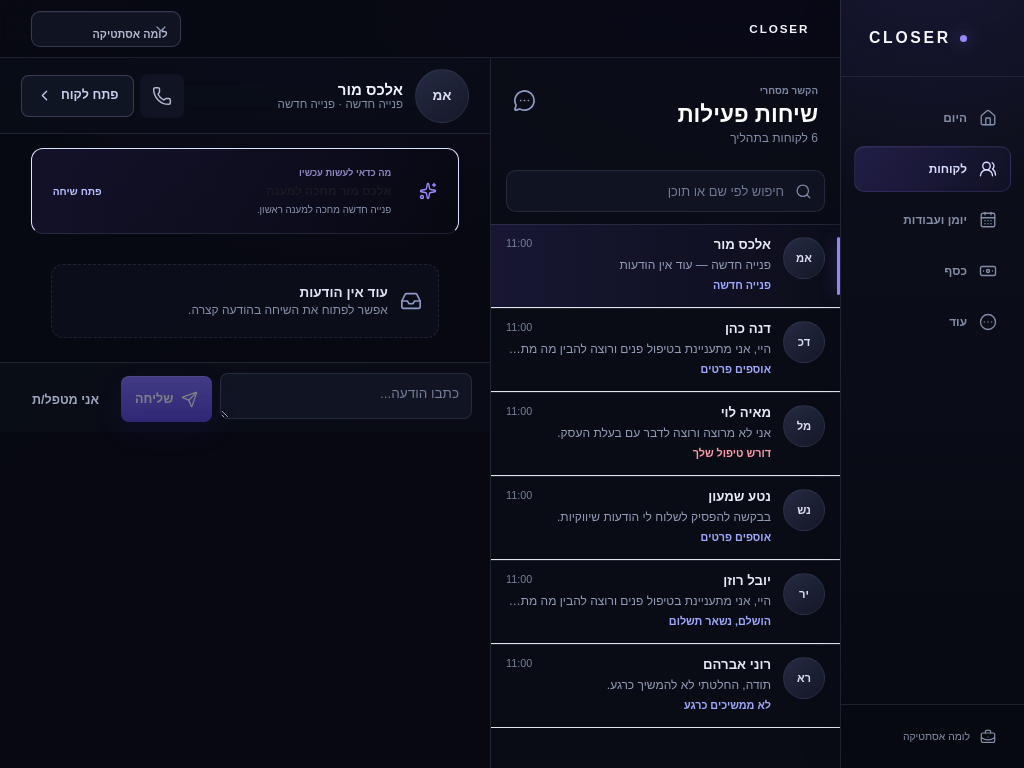
production product experience › selects an inbox conversation and exposes a readable thread
Click the button "מאיה לוי" at (666, 434), box [491,392,840,476]
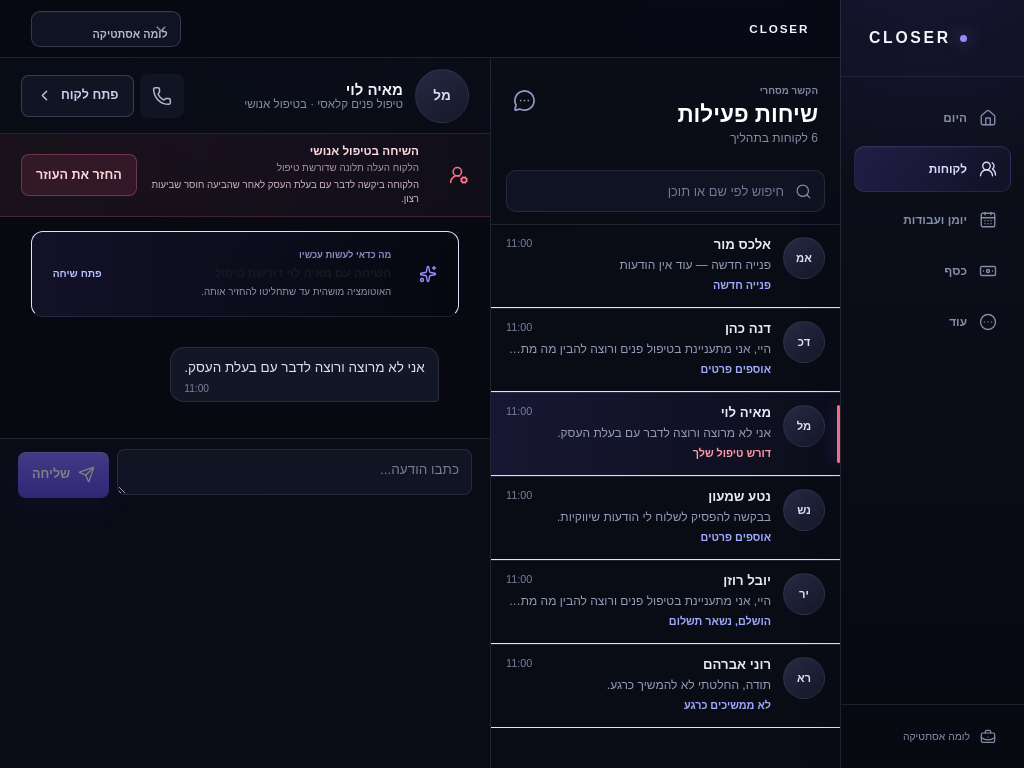
Now the heading "מאיה לוי" is shown, box [346,81,403,98]
Now the text "השיחה בטיפול אנושי" is shown, box [310,144,419,157]
Now the button "החזר את העוזר" is shown, box [21,154,137,196]
